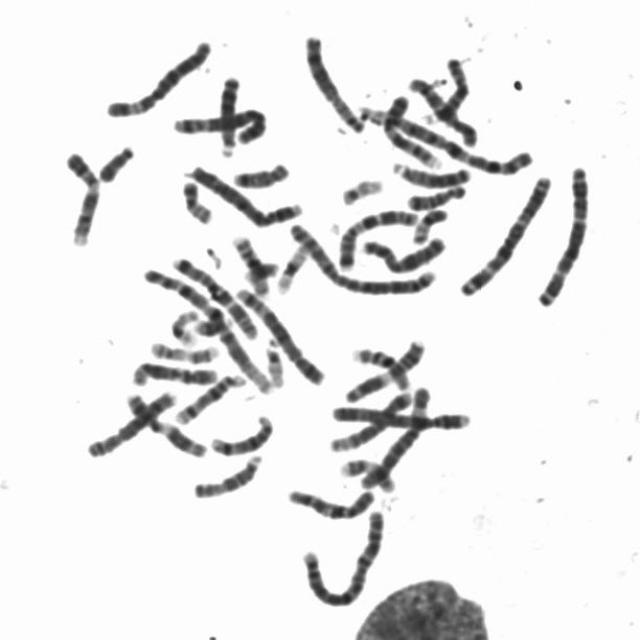A1: (137, 262, 277, 394), (374, 89, 536, 178)
A2: (286, 215, 444, 298), (298, 504, 387, 608)
A3: (455, 170, 555, 298), (531, 160, 593, 308)
B4: (183, 159, 306, 229), (325, 400, 472, 433)
B5: (230, 282, 328, 388), (166, 102, 271, 146)
C10: (404, 72, 481, 147), (281, 482, 379, 522)
C11: (120, 388, 208, 459), (341, 334, 430, 404)
C12: (326, 385, 418, 455), (126, 356, 220, 388)
C6: (101, 33, 216, 119), (353, 380, 434, 490)
C7: (165, 248, 266, 342), (334, 203, 424, 271)
C8: (299, 28, 369, 136), (82, 386, 180, 459)
C9: (378, 90, 444, 170), (60, 146, 104, 248)
D13: (391, 157, 474, 188), (215, 70, 242, 158)
D14: (170, 368, 248, 425), (205, 409, 275, 457)
D15: (188, 448, 266, 501), (420, 53, 470, 126)
E16: (346, 343, 412, 392), (228, 231, 272, 298)
E17: (333, 452, 398, 494), (144, 336, 222, 365)
E18: (228, 156, 292, 190), (403, 181, 468, 211)
F19: (270, 239, 312, 295), (165, 304, 201, 347)
F20: (177, 176, 215, 226), (406, 203, 449, 245)
G21: (240, 256, 282, 284), (190, 311, 237, 336)
G22: (337, 173, 386, 206), (260, 335, 286, 390)
X: (358, 230, 450, 276)
Y: (94, 139, 137, 184)
